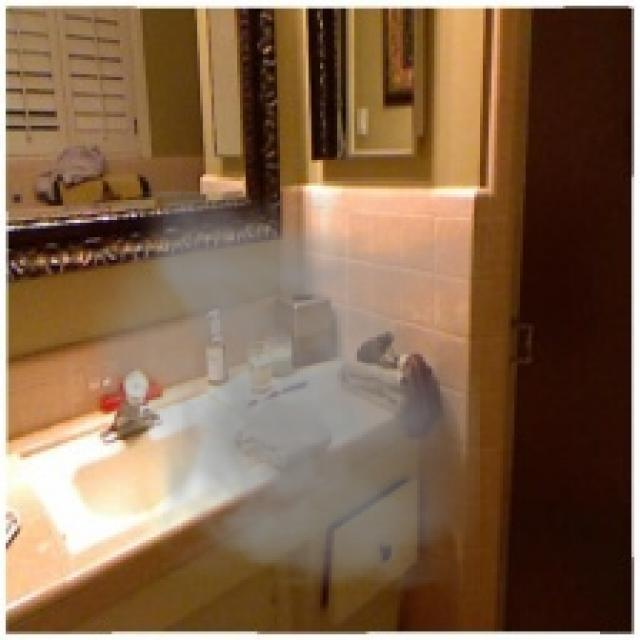Smoke: (71, 192, 480, 592)
